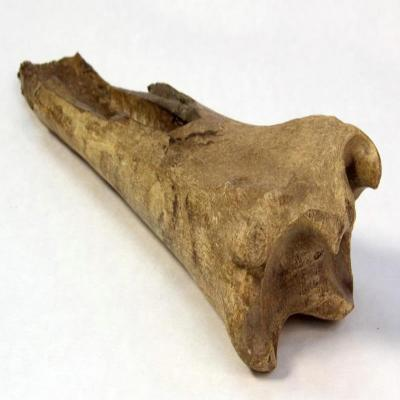natural_science_collection: (17, 52, 384, 376)
